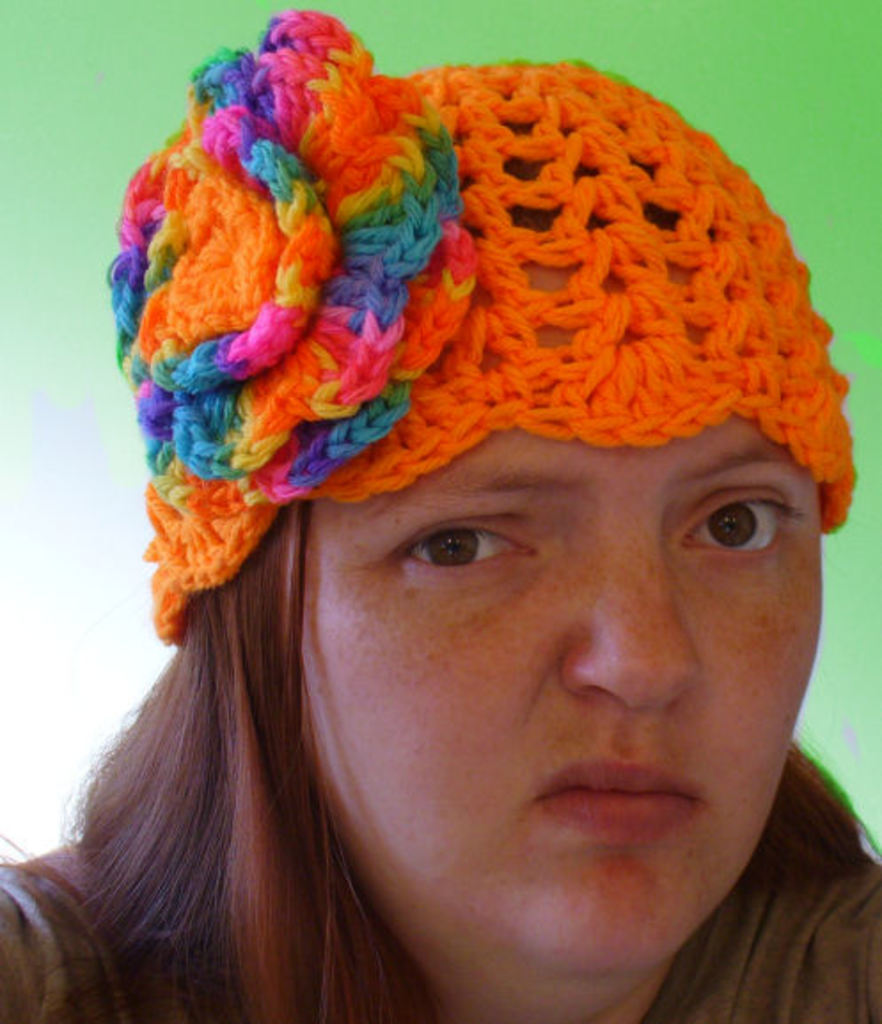Person: (0, 7, 882, 1024)
